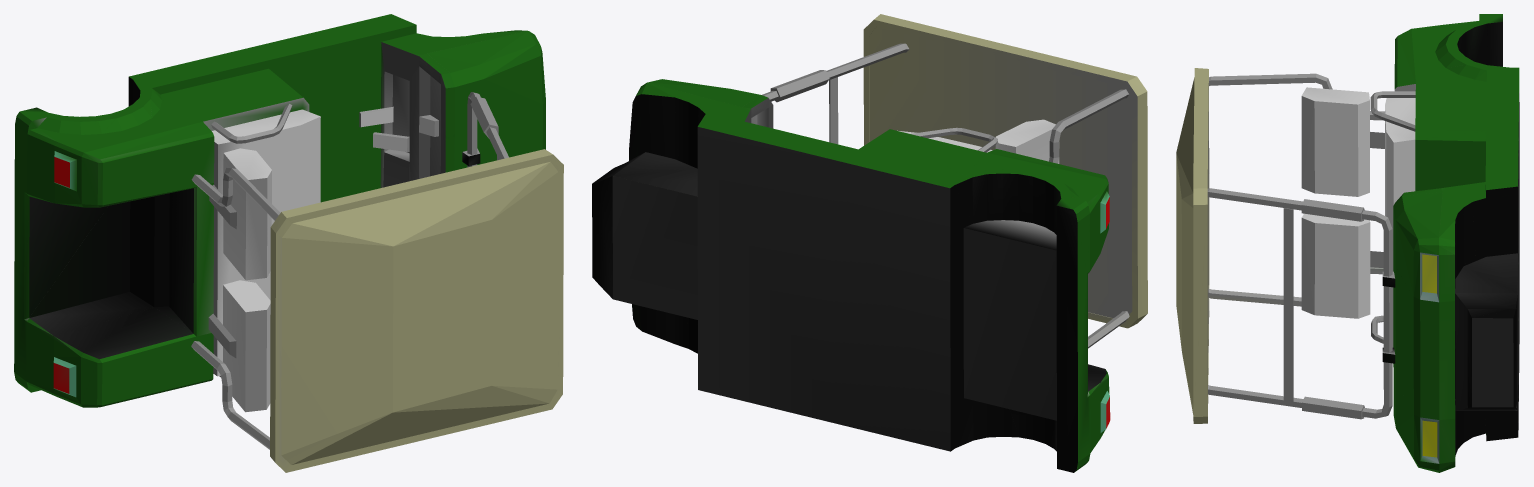
The model's file is carina_texture.dae.
The picture shows the model from 3 angles, left to right: view 1: azimuth 30°, elevation 25°; view 2: azimuth 150°, elevation 25°; view 3: azimuth 270°, elevation 25°; orthographic projection. The views are drawn at different scales.
Parts seen in each view (by area): view 1: node; view 2: node; view 3: node.
Boxes of the visible parts, x1,y1,x2,y2 form: node: (14,14,563,472); node: (592,14,1147,472); node: (1176,14,1519,472).
Bounding box in the file's own units: 2.61 × 1.37 × 1.69.
Materials: 1 (1 with a texture image).
